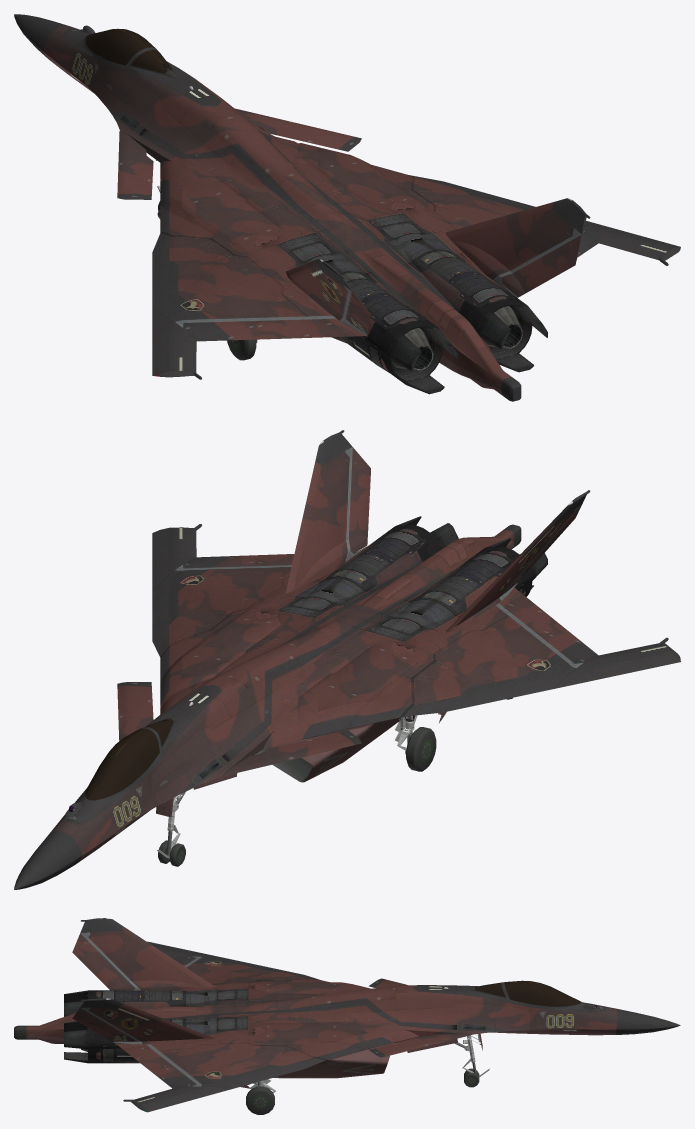
Rendered from CFA44.obj.
3 views of the same model, one above another, from view 1: azimuth 30°, elevation 25°; view 2: azimuth 150°, elevation 25°; view 3: azimuth 270°, elevation 25° (orthographic). The views are drawn at different scales.
Parts seen in each view (by area): view 1: DrawCal105, DrawCall57, DrawCall60, DrawCall_7, DrawCall23, DrawCall53, DrawCall_3, DrawCall18, DrawCall_5, DrawCall29, DrawCall27, DrawCal106 (+1 smaller); view 2: DrawCal105, DrawCall57, DrawCall23, DrawCall53, DrawCal106, DrawCall_3, DrawCall18, DrawCall_5, DrawCall_7, DrawCall84, DrawCall66, DrawCall29 (+3 smaller); view 3: DrawCal105, DrawCall57, DrawCal106, DrawCall53, DrawCall17, DrawCall60, DrawCall_7, DrawCall_5, DrawCall18, DrawCall99, DrawCall30, DrawCall28 (+2 smaller).
Part boxes in pixels (<box>): DrawCal105: <box>14,14,680,401</box>; DrawCall57: <box>182,148,416,244</box>; DrawCall60: <box>388,304,547,394</box>; DrawCall_7: <box>210,108,305,184</box>; DrawCall23: <box>152,233,169,375</box>; DrawCall53: <box>83,25,680,376</box>; DrawCall_3: <box>117,131,153,199</box>; DrawCall18: <box>501,235,582,297</box>; DrawCall_5: <box>235,108,361,151</box>; DrawCall29: <box>256,318,347,339</box>; DrawCall27: <box>182,321,269,341</box>; DrawCal106: <box>409,175,680,247</box>; DrawCal105: <box>14,430,680,889</box>; DrawCall57: <box>182,613,417,720</box>; DrawCall23: <box>403,651,680,716</box>; DrawCall53: <box>68,440,680,811</box>; DrawCal106: <box>152,528,169,657</box>; DrawCall_3: <box>223,730,361,776</box>; DrawCall18: <box>348,447,370,552</box>; DrawCall_5: <box>117,682,153,740</box>; DrawCall_7: <box>210,643,305,688</box>; DrawCall84: <box>397,715,436,771</box>; DrawCall66: <box>156,794,185,866</box>; DrawCall29: <box>503,595,561,634</box>; DrawCal105: <box>14,918,680,1111</box>; DrawCall57: <box>257,982,367,1042</box>; DrawCal106: <box>142,1057,325,1112</box>; DrawCall53: <box>106,918,596,1111</box>; DrawCall17: <box>72,933,134,990</box>; DrawCall60: <box>64,990,88,1063</box>; DrawCall_7: <box>311,985,406,1005</box>; DrawCall_5: <box>368,1033,471,1057</box>; DrawCall18: <box>72,1008,134,1041</box>; DrawCall99: <box>246,1080,275,1114</box>; DrawCall30: <box>122,1046,172,1069</box>; DrawCall28: <box>148,1065,196,1088</box>.
Bounding box in the file's own units: 14.58 × 5.04 × 24.04.
Materials: 5 (5 with a texture image).
